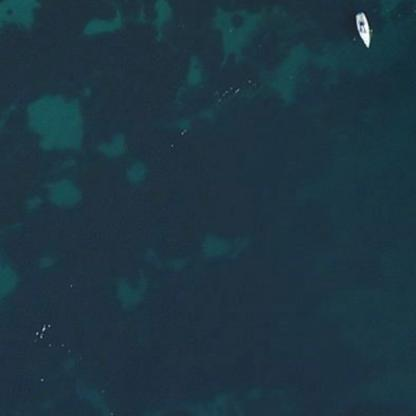ship: (352, 9, 373, 48)
